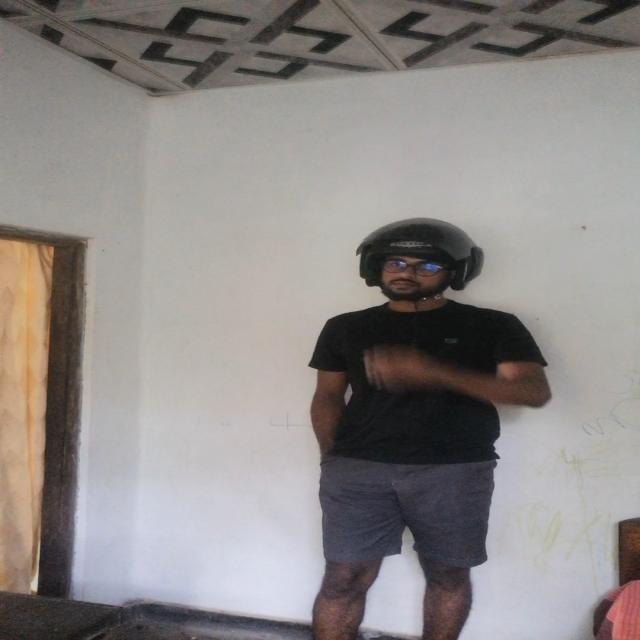Helmet_Wearer: (346, 210, 501, 319)
Person: (299, 211, 554, 640)
